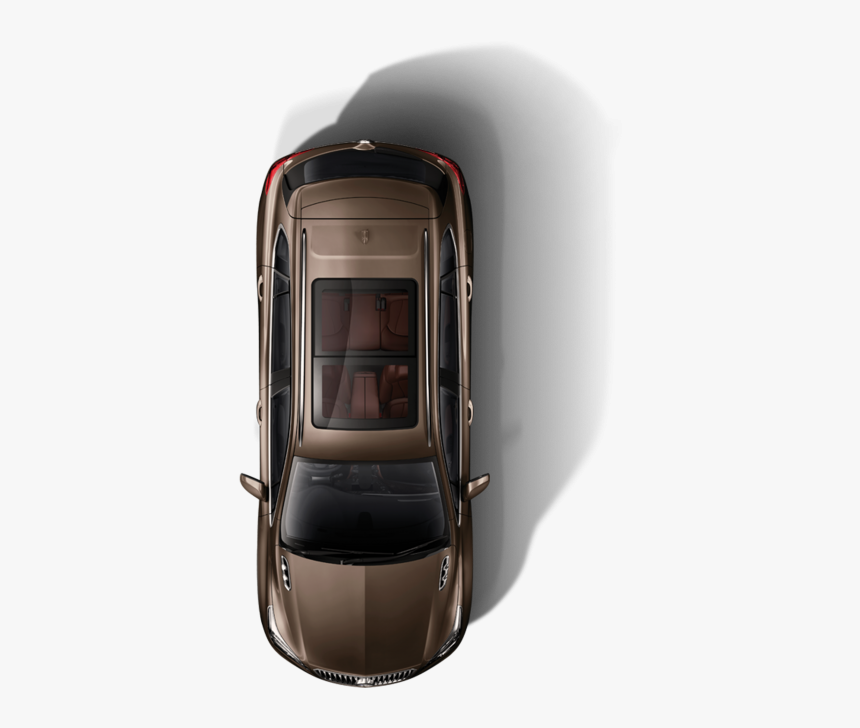car: (253, 140, 469, 692)
